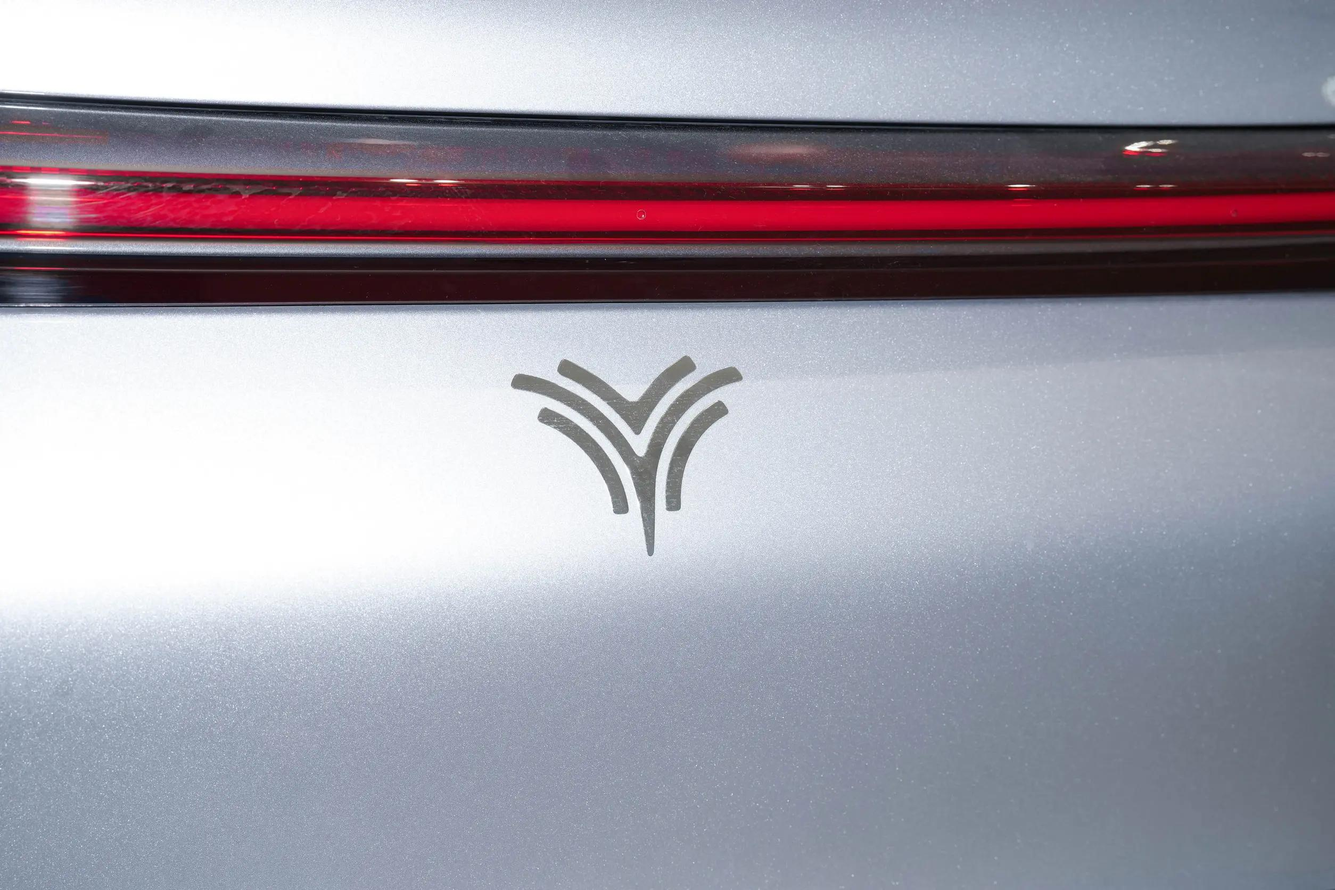NETA: (509, 352, 747, 559)
